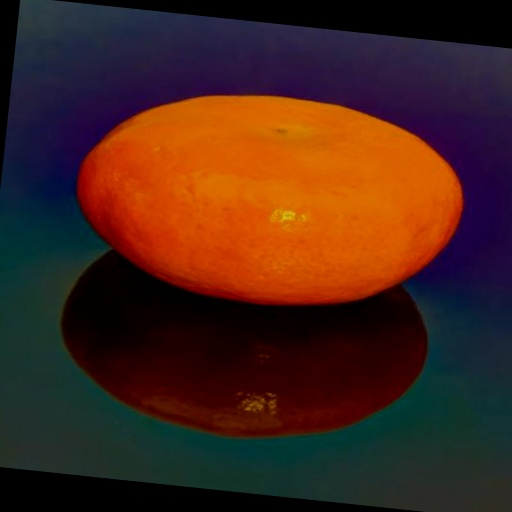fruit: (78, 96, 462, 304), (63, 252, 426, 437)
